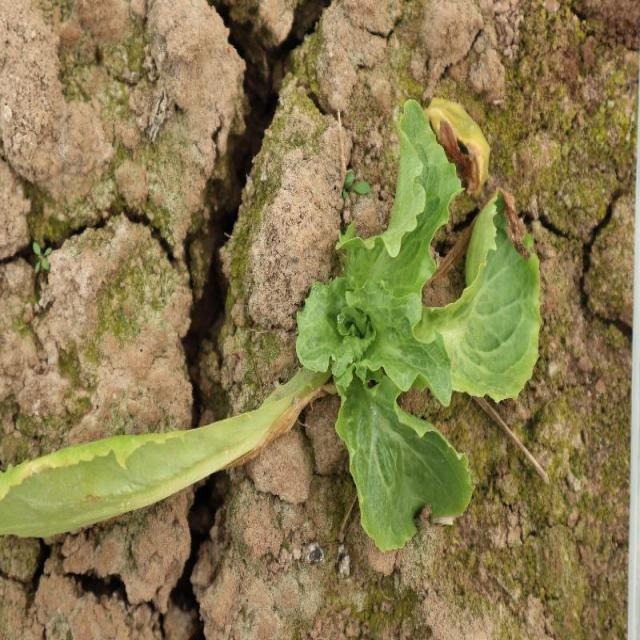crop: (1, 97, 544, 554)
